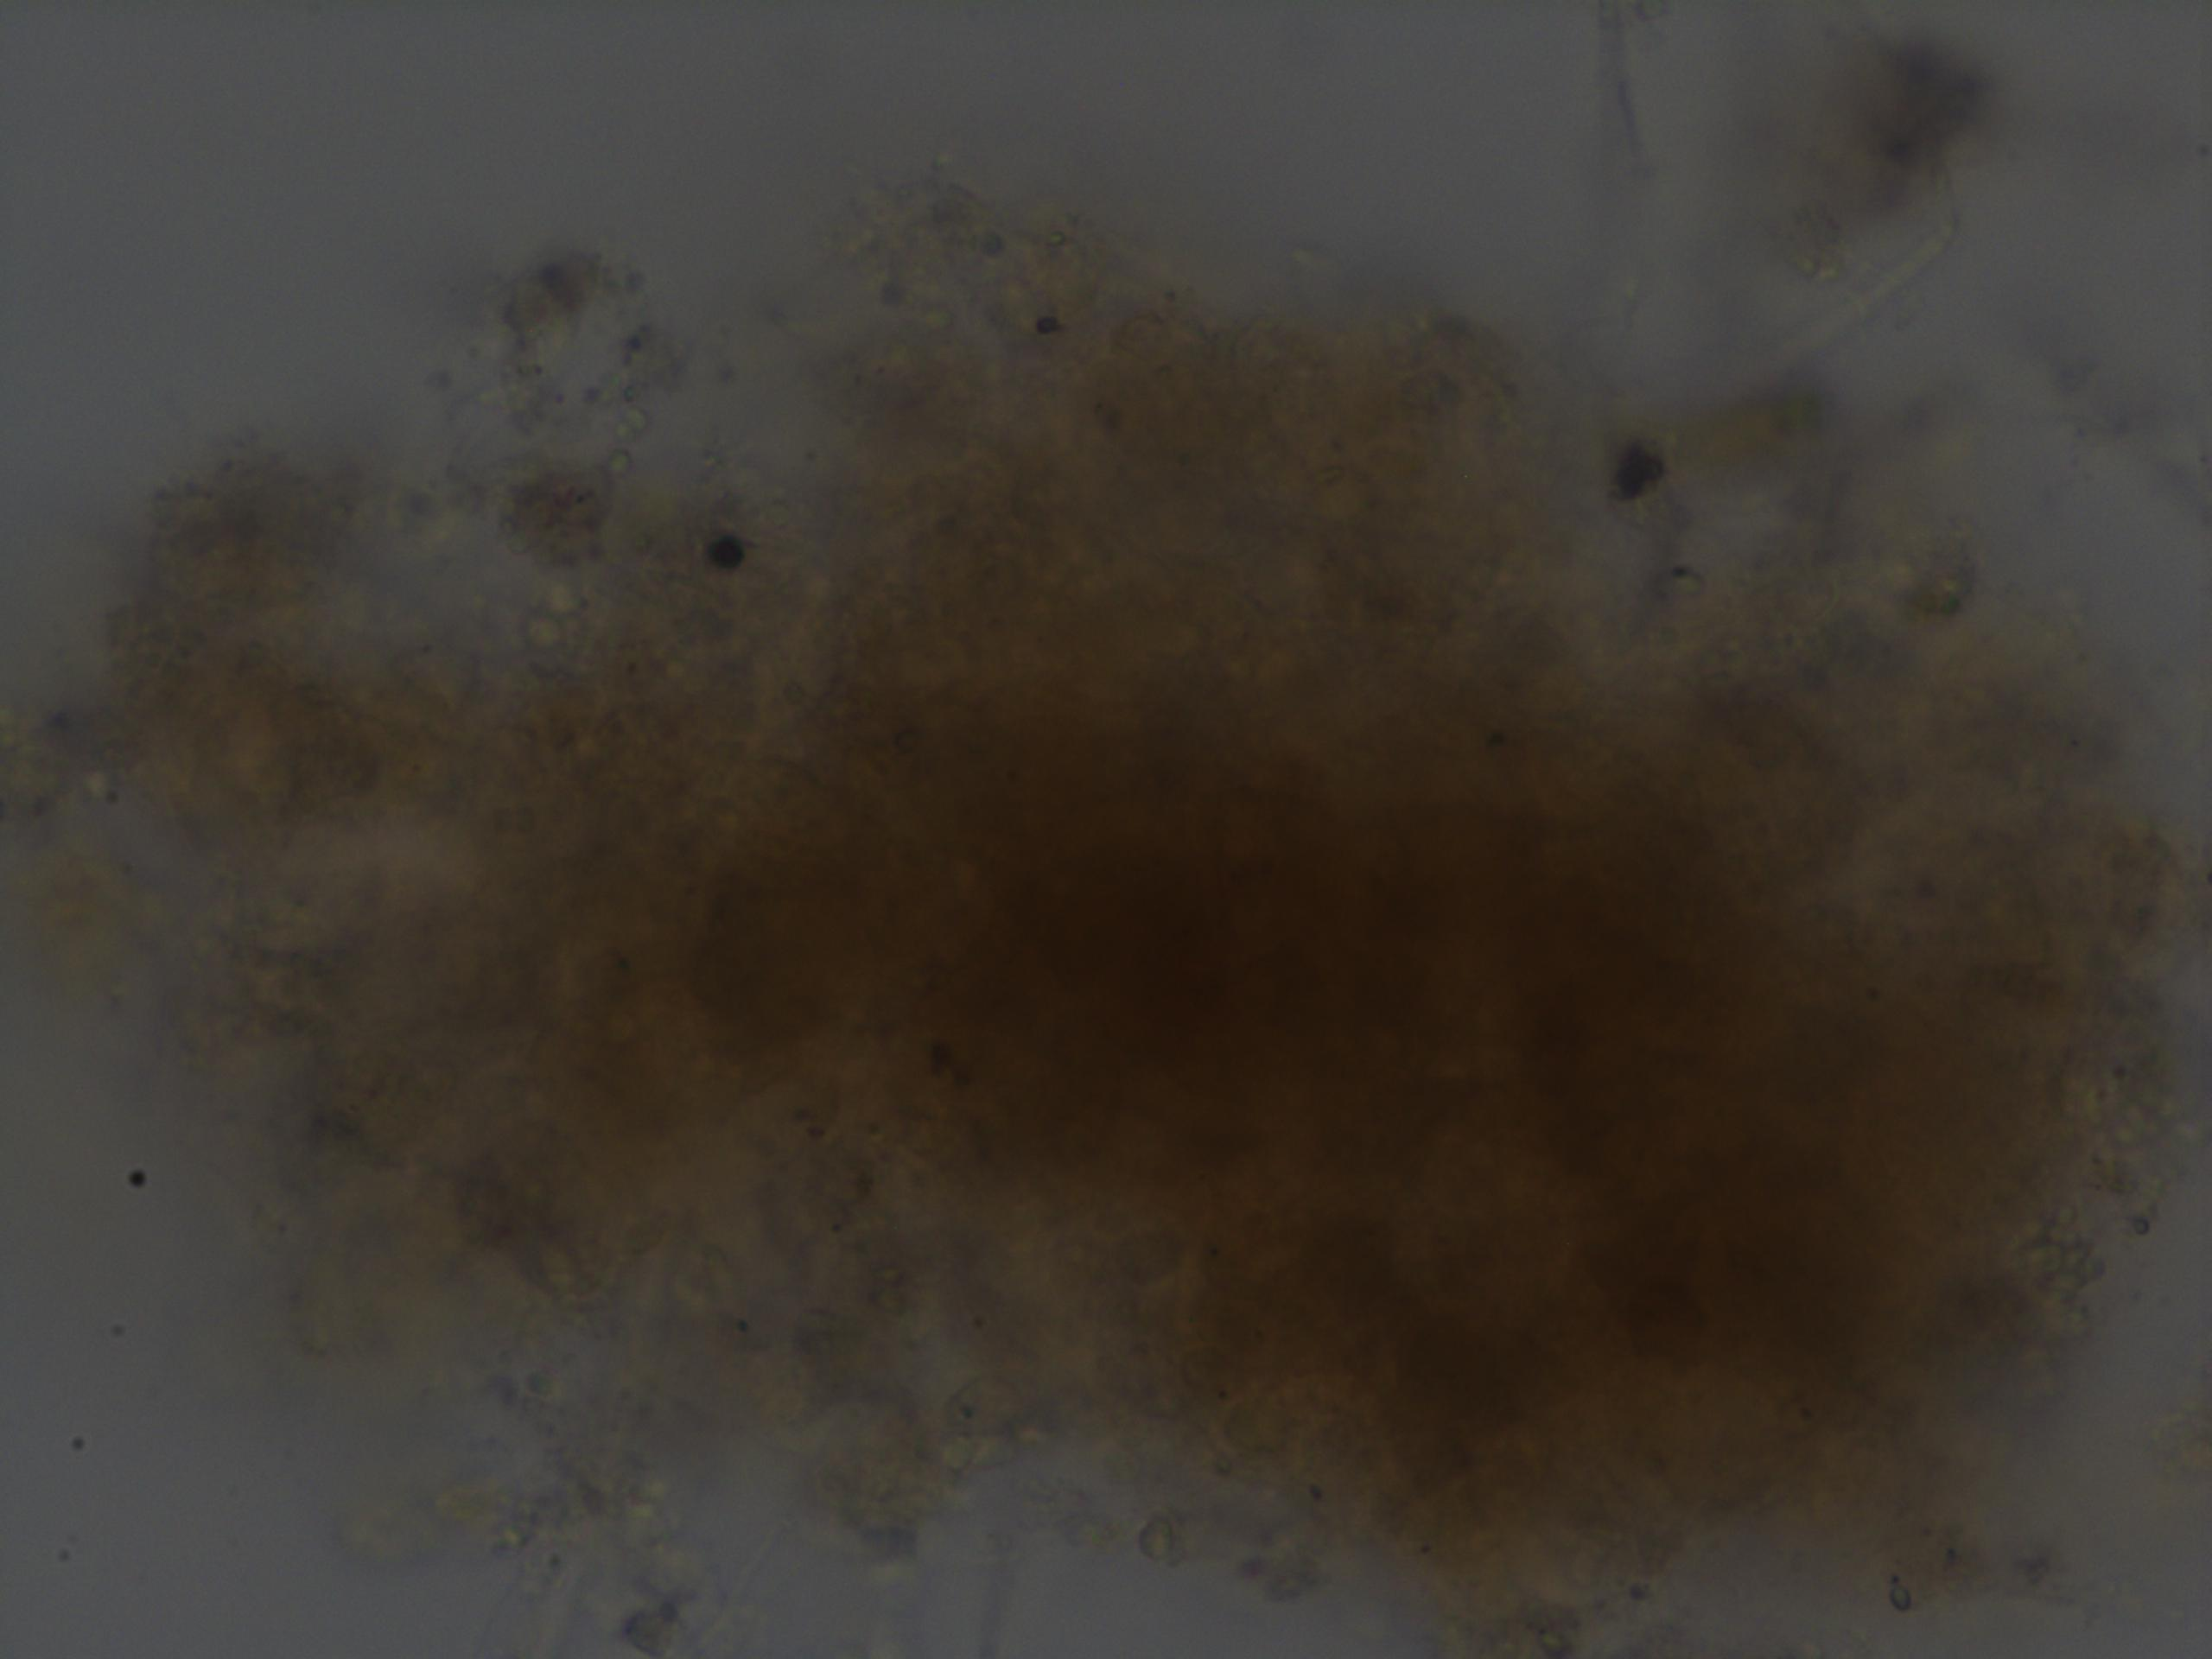spherical_floc: (98, 242, 2191, 1608)
